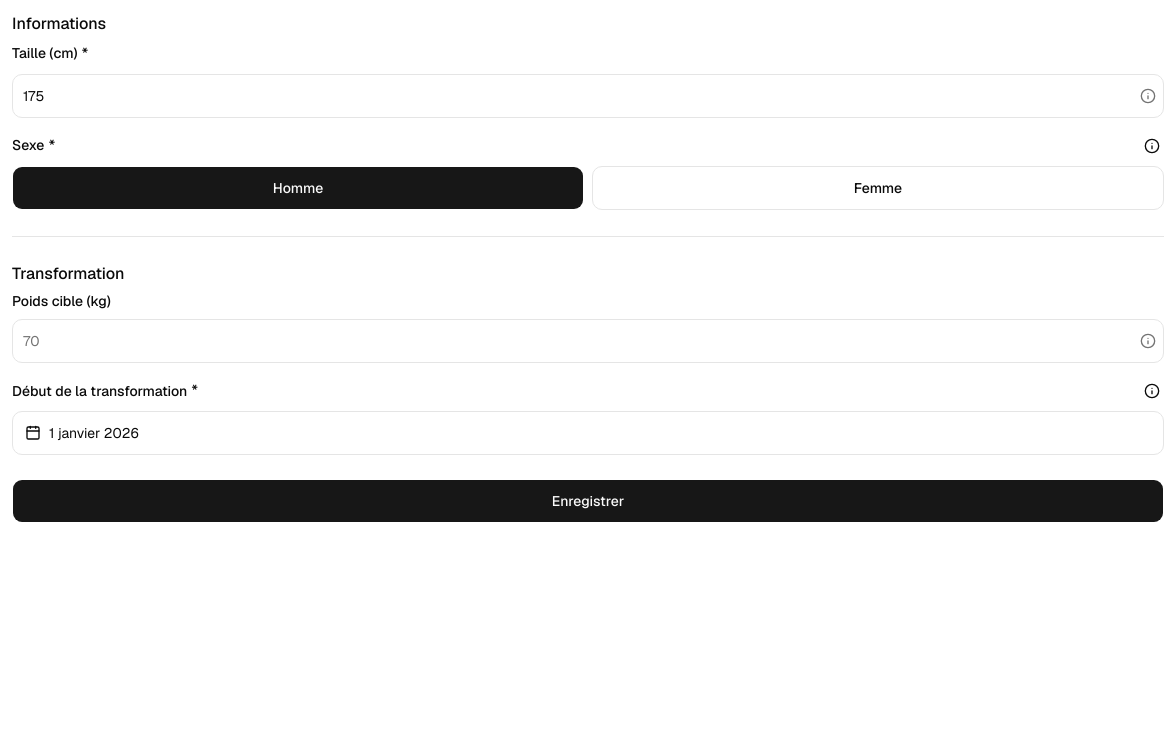
HeightForm — submission › refuses to submit a cleared height, marks the field, and sends nothing
The image size is (1176, 732).
Clear the field labelled "Taille (cm)": x=574, y=96 [13, 74, 1136, 118]
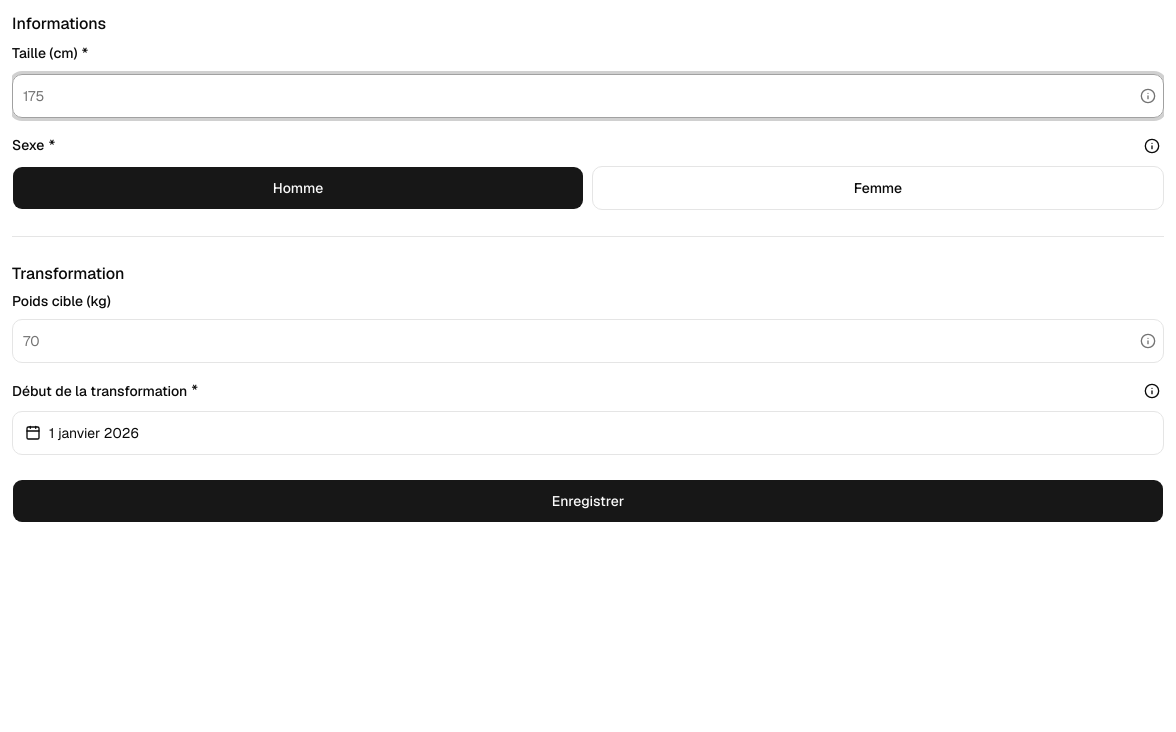
Click the button "Enregistrer": x=588, y=501 [12, 479, 1164, 523]
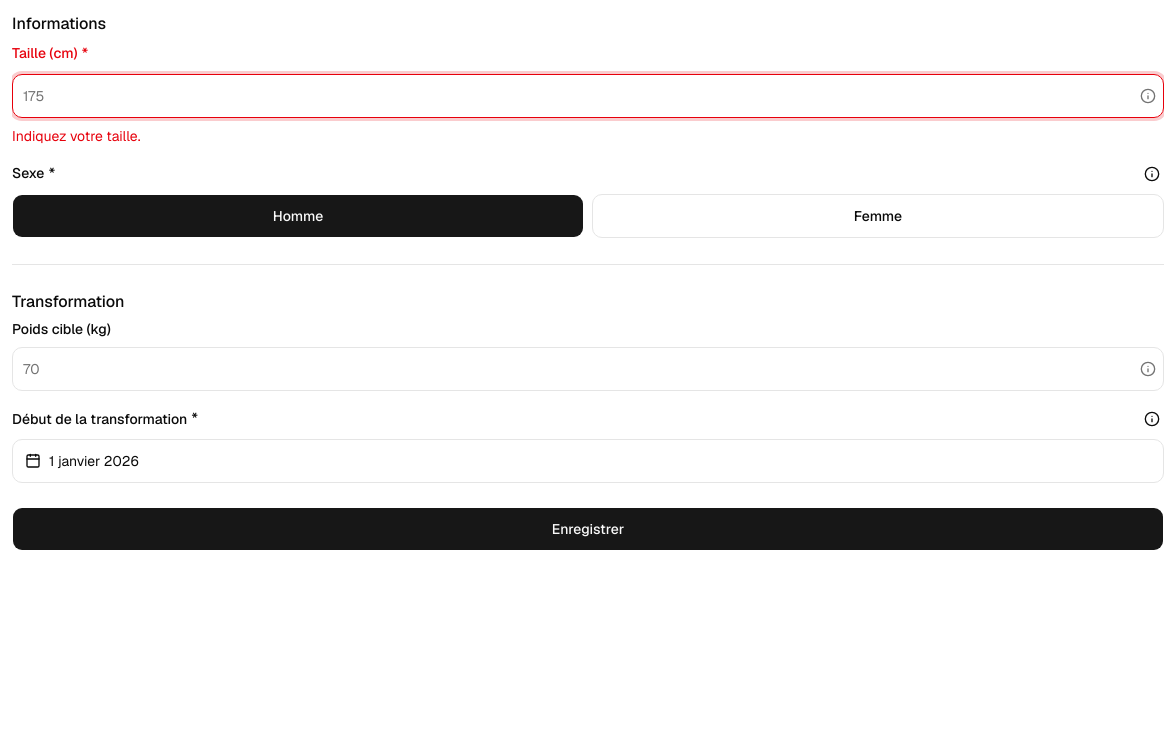
Expected: the text "Indiquez votre taille." is shown, [12, 127, 140, 145]
